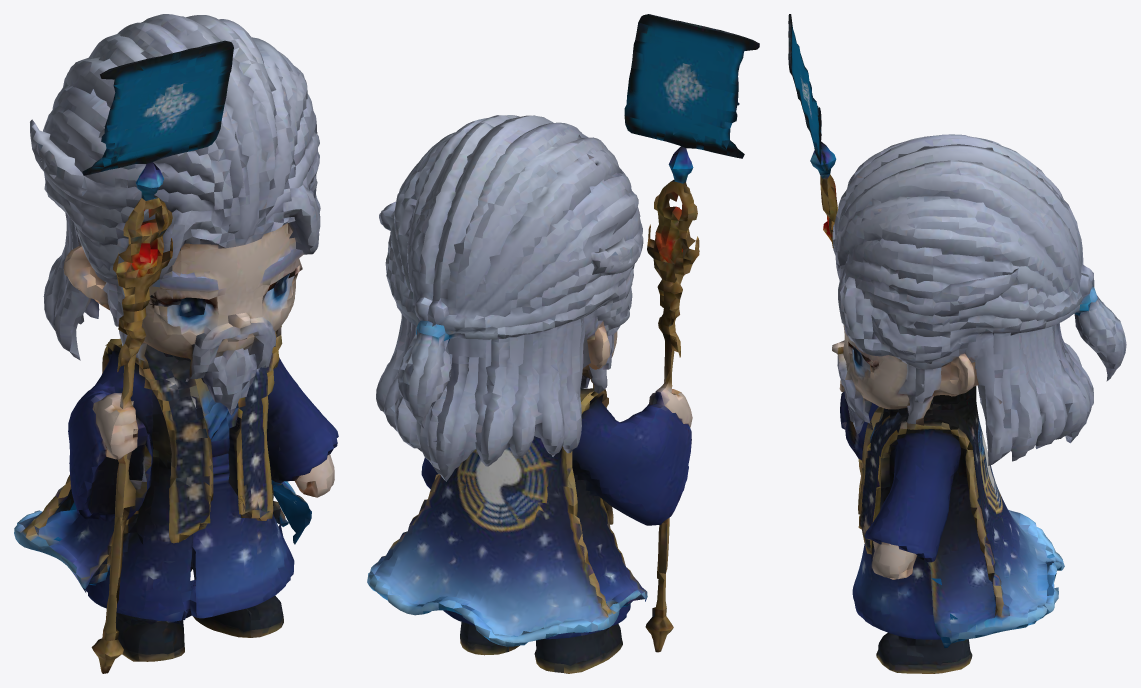
File: alatancheji.glb
3 renders of one model, left to right at view 1: azimuth 30°, elevation 25°; view 2: azimuth 150°, elevation 25°; view 3: azimuth 270°, elevation 25°, orthographic. The views are drawn at different scales.
Bounding box in the file's own units: 1.31 × 2.7 × 1.47.
Materials: 1 (1 with a texture image).
